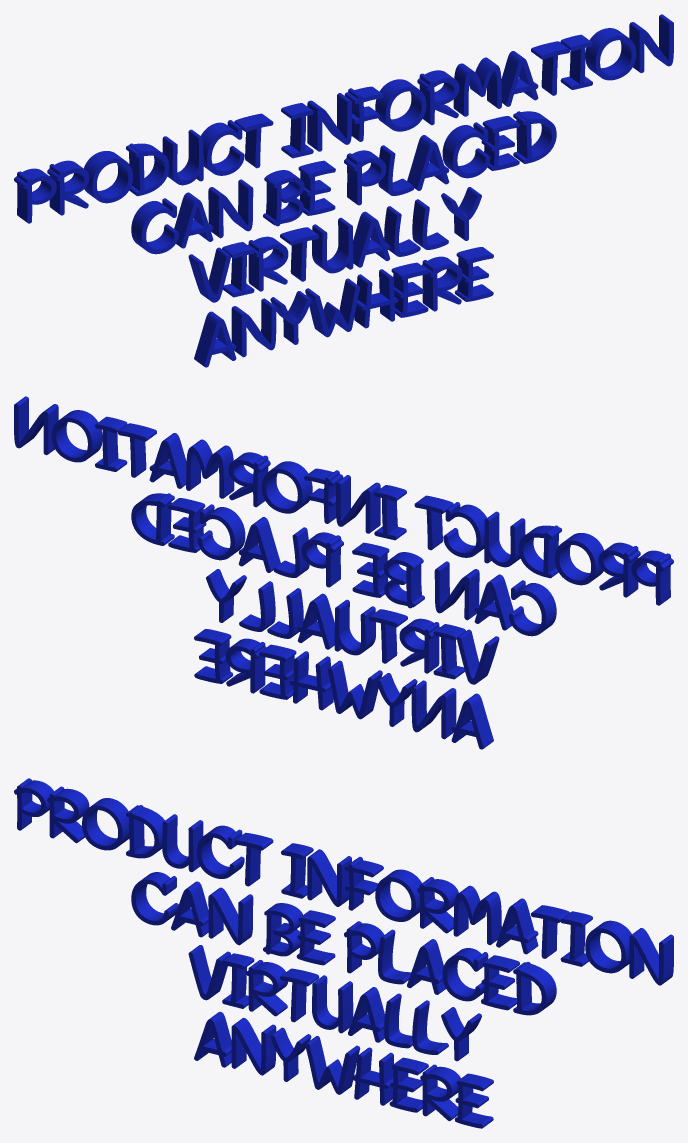
Rendered from ProductInfo.glb.
The picture shows the model from 3 angles, top to bottom: view 1: azimuth 30°, elevation 25°; view 2: azimuth 150°, elevation 25°; view 3: azimuth 330°, elevation 25°; orthographic projection.
Parts seen in each view (by area): view 1: 3D Text - A (×5), 3D Text - N (×4), 3D Text - R (×4), 3D Text - E (×4), 3D Text - O (×3), 3D Text - C (×3), 3D Text - I (×3), 3D Text - D (×2), 3D Text - T (×3), 3D Text - U (×2), 3D Text - P (×2), 3D Text - L (×3) (+7 smaller); view 2: 3D Text - A (×5), 3D Text - N (×4), 3D Text - R (×4), 3D Text - E (×4), 3D Text - O (×3), 3D Text - C (×3), 3D Text - I (×3), 3D Text - D (×2), 3D Text - T (×3), 3D Text - U (×2), 3D Text - P (×2), 3D Text - L (×3) (+7 smaller); view 3: 3D Text - N (×4), 3D Text - R (×4), 3D Text - A (×5), 3D Text - E (×4), 3D Text - O (×3), 3D Text - C (×3), 3D Text - I (×3), 3D Text - D (×2), 3D Text - U (×2), 3D Text - T (×3), 3D Text - L (×3), 3D Text - P (×2) (+7 smaller).
Boxes of the visible parts, <box> form: 3D Text - A (×5): <box>174,51,538,367</box>; 3D Text - N (×4): <box>208,14,673,357</box>; 3D Text - R (×4): <box>47,70,462,311</box>; 3D Text - E (×4): <box>298,116,519,317</box>; 3D Text - O (×3): <box>84,28,636,203</box>; 3D Text - C (×3): <box>131,120,490,254</box>; 3D Text - I (×3): <box>222,34,592,297</box>; 3D Text - D (×2): <box>126,111,556,196</box>; 3D Text - T (×3): <box>234,41,569,281</box>; 3D Text - U (×2): <box>162,129,353,273</box>; 3D Text - P (×2): <box>14,150,386,223</box>; 3D Text - L (×3): <box>378,145,448,256</box>; 3D Text - A (×5): <box>149,433,513,749</box>; 3D Text - N (×4): <box>14,396,479,739</box>; 3D Text - R (×4): <box>225,452,640,693</box>; 3D Text - E (×4): <box>168,498,389,699</box>; 3D Text - O (×3): <box>51,410,603,585</box>; 3D Text - C (×3): <box>197,502,556,636</box>; 3D Text - I (×3): <box>95,416,465,679</box>; 3D Text - D (×2): <box>131,493,561,578</box>; 3D Text - T (×3): <box>118,423,453,663</box>; 3D Text - U (×2): <box>334,511,525,655</box>; 3D Text - P (×2): <box>301,532,673,605</box>; 3D Text - L (×3): <box>239,527,309,638</box>; 3D Text - N (×4): <box>208,849,673,1075</box>; 3D Text - R (×4): <box>47,786,460,1121</box>; 3D Text - A (×5): <box>171,881,538,1067</box>; 3D Text - E (×4): <box>296,910,519,1128</box>; 3D Text - O (×3): <box>82,798,631,973</box>; 3D Text - C (×3): <box>131,825,488,1001</box>; 3D Text - I (×3): <box>222,843,592,1008</box>; 3D Text - D (×2): <box>126,805,556,1015</box>; 3D Text - U (×2): <box>162,814,353,1033</box>; 3D Text - T (×3): <box>234,832,569,1022</box>; 3D Text - L (×3): <box>378,929,448,1054</box>; 3D Text - P (×2): <box>14,778,384,973</box>.
Bounding box in the file's own units: 0.5454 × 0.1878 × 0.015.
